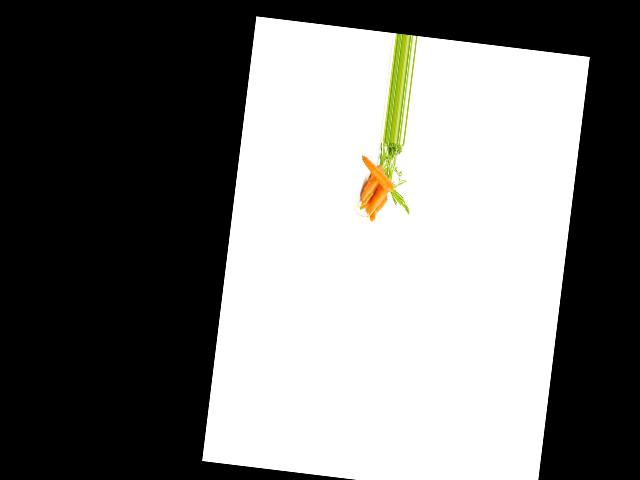carrot: (360, 161, 384, 209)
